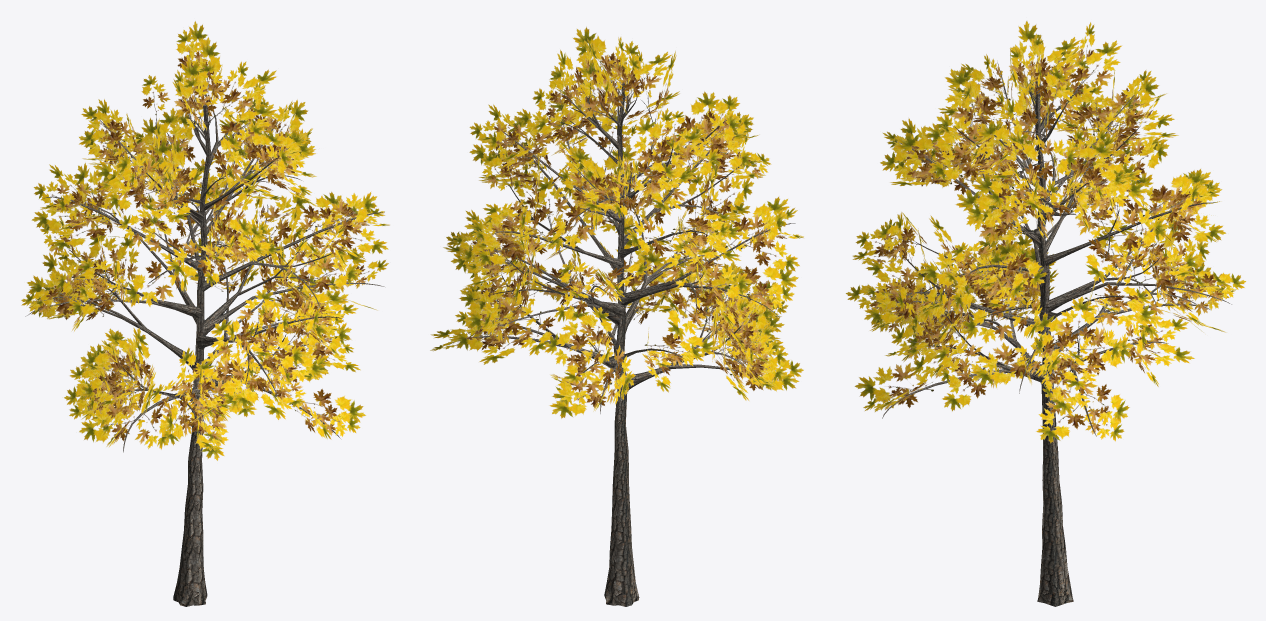
File: erable-2.glb
3 renders of one model, left to right at view 1: azimuth 30°, elevation 25°; view 2: azimuth 150°, elevation 25°; view 3: azimuth 270°, elevation 25°, orthographic. The views are drawn at different scales.
Parts seen in each view (by area): view 1: SM_Maple1_MZRT; view 2: SM_Maple1_MZRT; view 3: SM_Maple1_MZRT.
Part boxes in pixels (box(x1,y1,x2,y2)): SM_Maple1_MZRT: box(21, 21, 389, 606); SM_Maple1_MZRT: box(430, 26, 803, 606); SM_Maple1_MZRT: box(845, 21, 1245, 606).
Bounding box in the file's own units: 3.79 × 5.58 × 3.54.
Materials: 2 (2 with a texture image).
